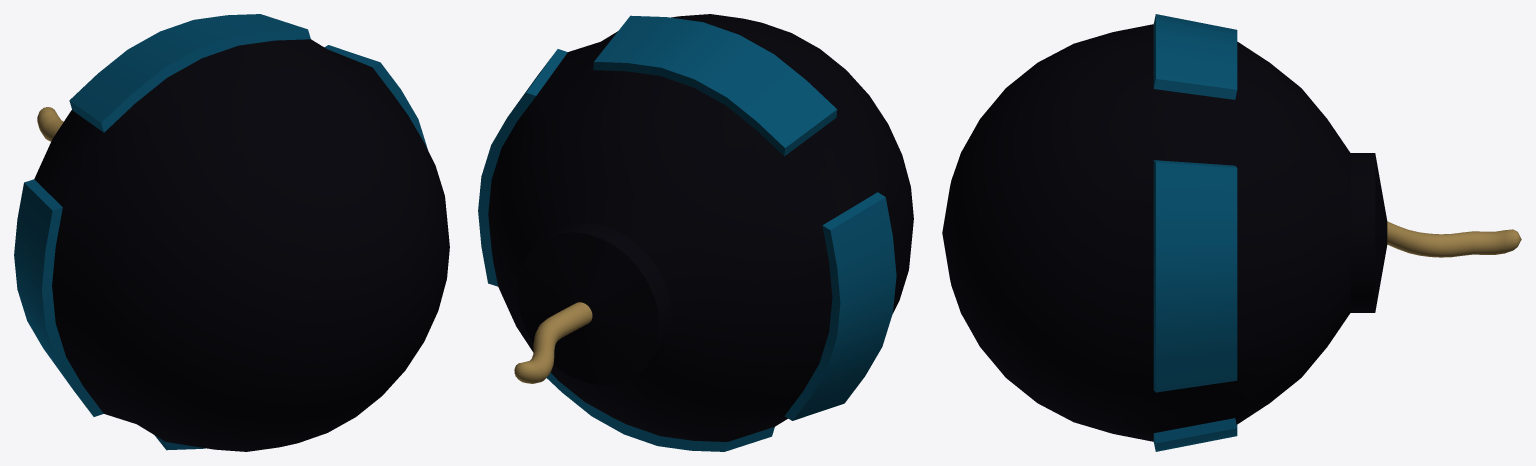
The model's file is AttaractiveBomb.FBX.
The picture shows the model from 3 angles, left to right: view 1: azimuth 30°, elevation 25°; view 2: azimuth 150°, elevation 25°; view 3: azimuth 270°, elevation 25°; orthographic projection. The views are drawn at different scales.
Parts seen in each view (by area): view 1: RepulsiveBomb; view 2: RepulsiveBomb; view 3: RepulsiveBomb.
Boxes of the visible parts, bbox=[...] form: RepulsiveBomb: bbox=[14, 14, 449, 451]; RepulsiveBomb: bbox=[478, 14, 913, 451]; RepulsiveBomb: bbox=[942, 14, 1521, 451].
Size of the model in its own units: 20.58 by 20.58 by 27.19.
